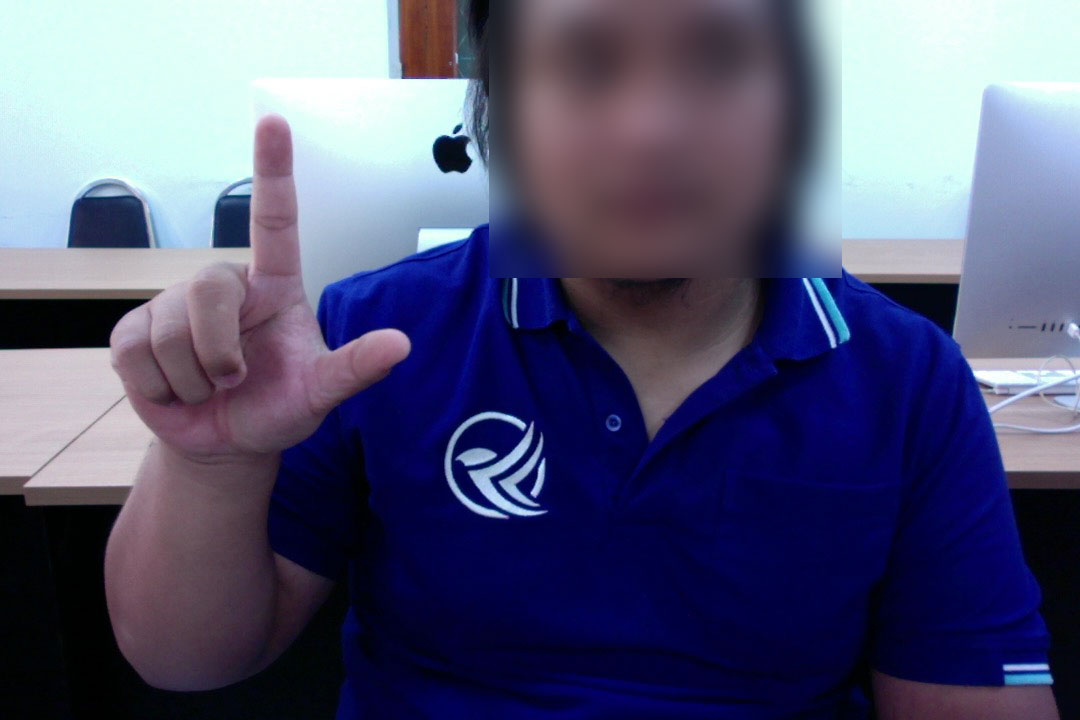lor: (90, 109, 420, 483)
